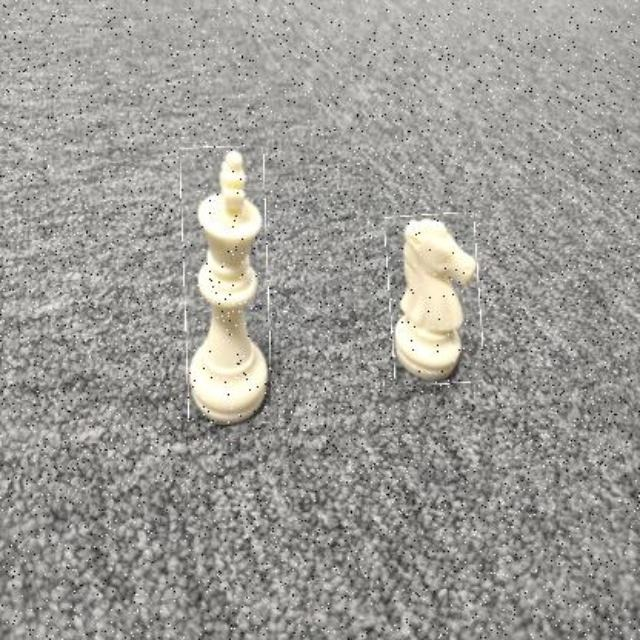white-king: (183, 148, 269, 424)
white-knight: (387, 215, 482, 385)
